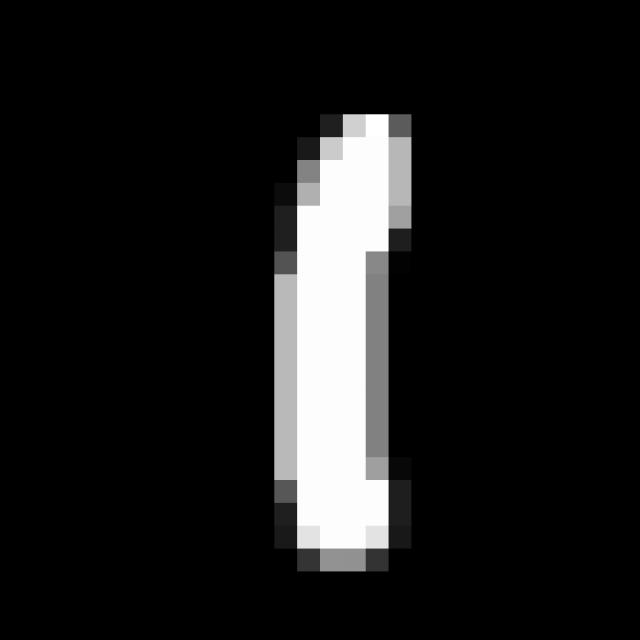one -1-: (242, 98, 446, 578)
